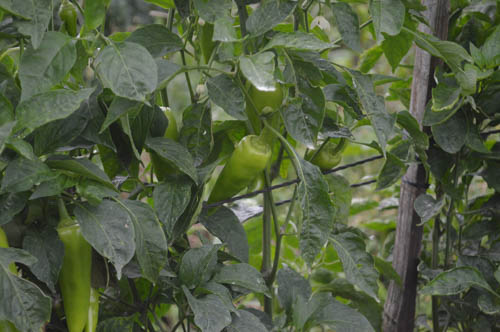ChiliPepper: (209, 137, 269, 209), (54, 223, 90, 329), (244, 82, 282, 138), (152, 107, 180, 181), (305, 147, 337, 175)
